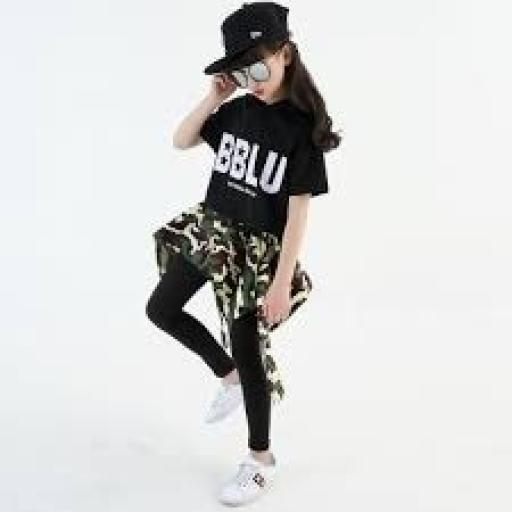dancing: (141, 0, 346, 510)
